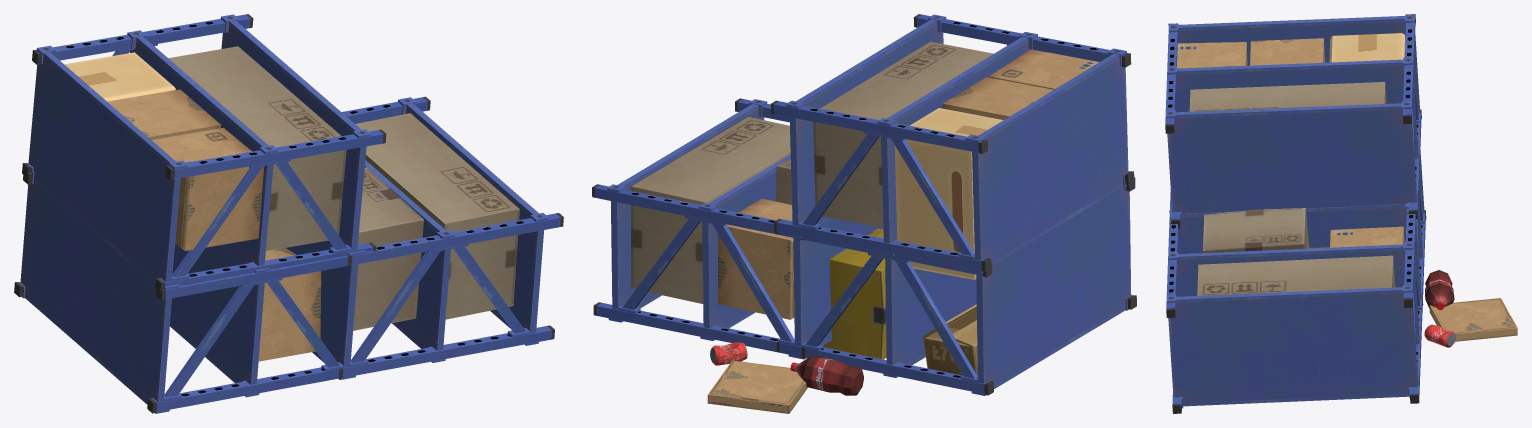
The model's file is P_NEWMaket01_after18.obj.
The picture shows the model from 3 angles, left to right: view 1: azimuth 30°, elevation 25°; view 2: azimuth 150°, elevation 25°; view 3: azimuth 270°, elevation 25°; orthographic projection. The views are drawn at different scales.
Bounding box in the file's own units: 3.33 × 2.19 × 2.89.
17 materials, 17 textured.
